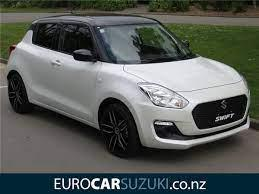Hatchback: (3, 14, 253, 156)
